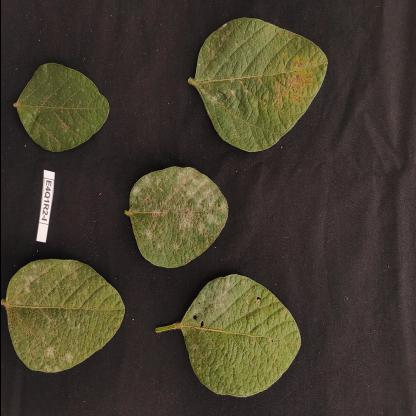label: (32, 170, 58, 248)
leaflets: (186, 9, 331, 157), (173, 270, 306, 402), (1, 252, 131, 376), (118, 154, 230, 274), (10, 50, 116, 154)
